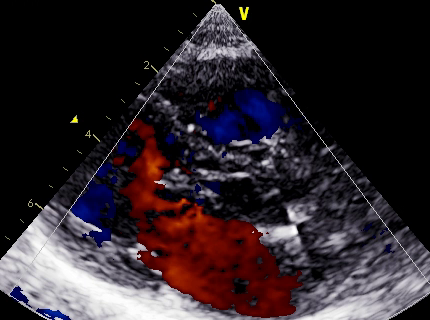AR: (128, 166, 221, 225)
